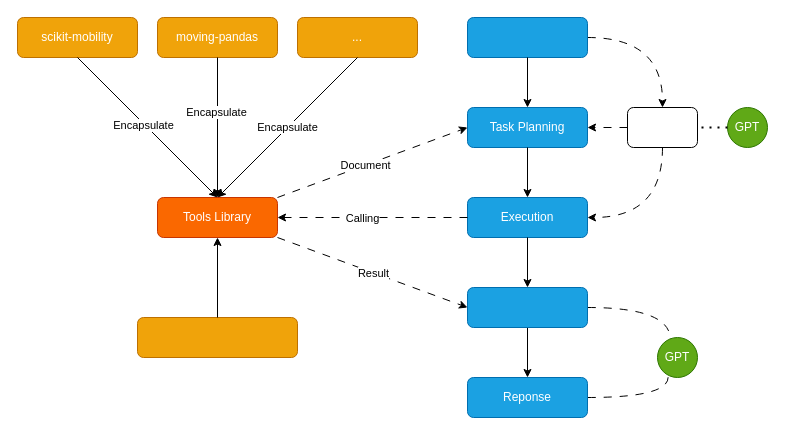
Some shapes in this 785 by 435 pixel diagram are drawn without their labels. Here are the shapes that lost their labels. From the top down, the box of each, then its label:
(466, 16, 588, 58): Request Analysis
(626, 106, 698, 148): langchain
(466, 286, 588, 328): Output
(136, 316, 298, 358): Self-made addition tools
